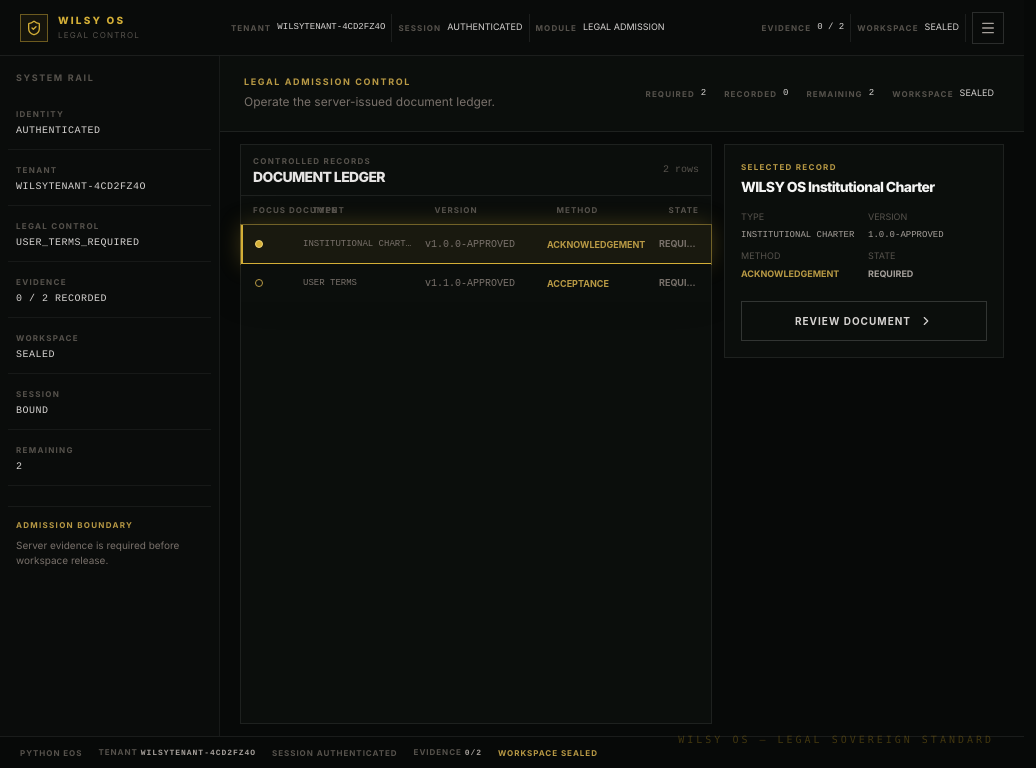
Test: LegalAcceptanceGate institutional interaction shell › keeps the recorded document focused until explicit next navigation
This screenshot has width=1036, height=768.
Click the button "Review document": click(864, 321) [741, 301, 987, 341]
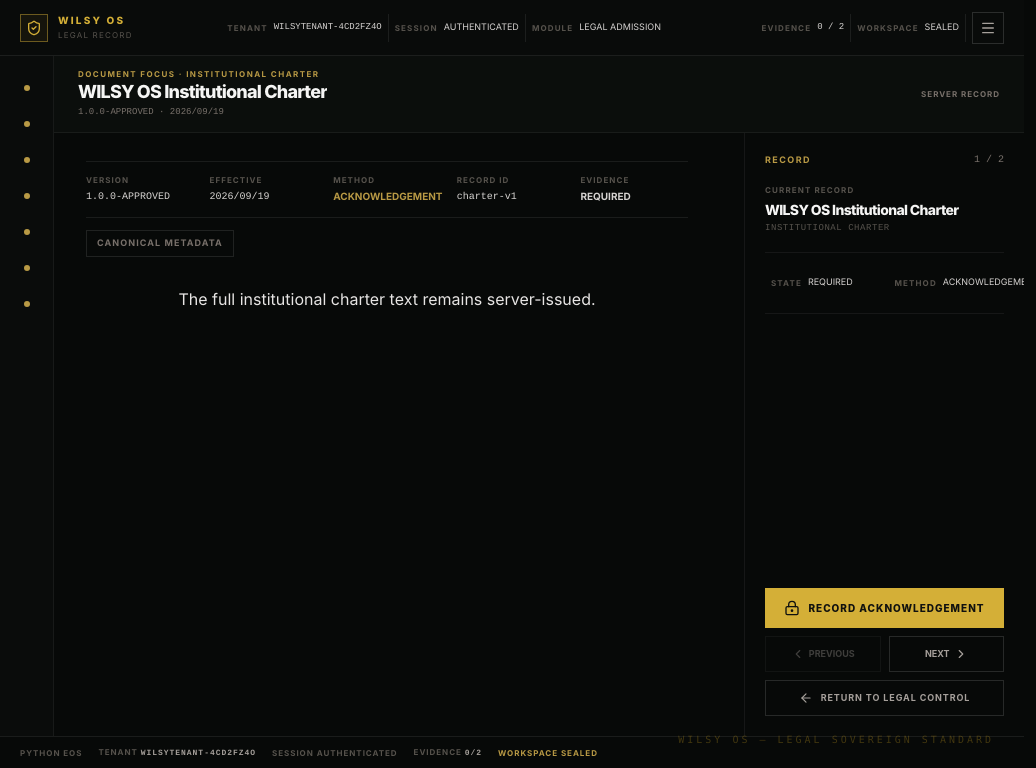
Click the button "Record acknowledgement": click(884, 608) [765, 588, 1004, 628]
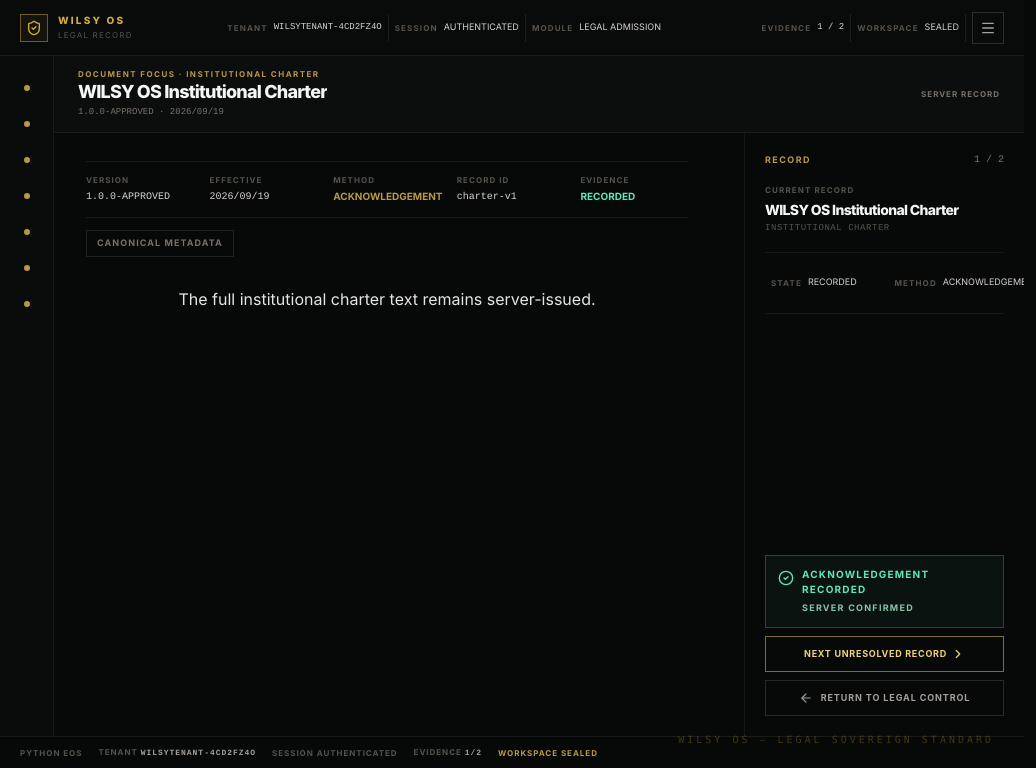
Expected: the heading "WILSY OS Institutional Charter" below "Document focus ·" is shown, [78, 84, 327, 102]
Expected: the element with test id "evidence-recorded" shows "Acknowledgement recorded", [802, 568, 929, 596]
Expected: the element with test id "evidence-recorded" shows "Server confirmed", [802, 602, 914, 614]
